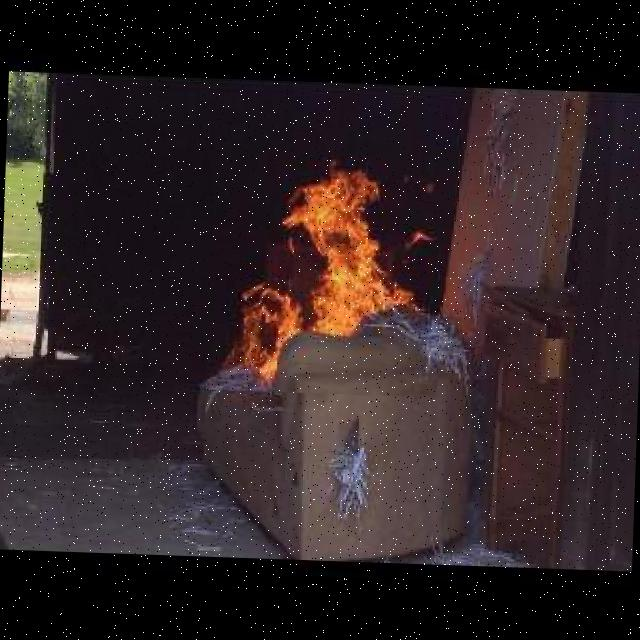fire: (206, 148, 444, 397)
